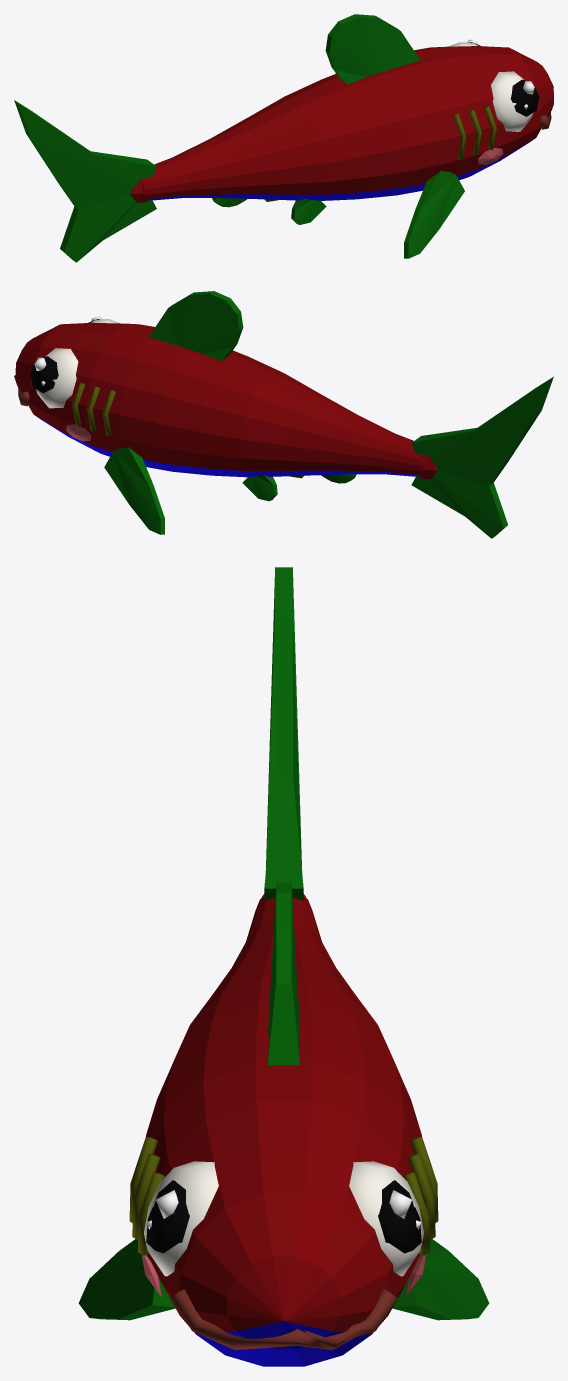
The model's file is fish-shark.glb.
The picture shows the model from 3 angles, top to bottom: view 1: azimuth 30°, elevation 25°; view 2: azimuth 150°, elevation 25°; view 3: azimuth 270°, elevation 25°; orthographic projection. The views are drawn at different scales.
Visible parts, largest first — view 1: body, tail; view 2: body, tail; view 3: body, tail.
Boxes of the visible parts, <box> form: body: <box>142,14,553,258</box>; tail: <box>14,100,156,262</box>; body: <box>14,291,425,534</box>; tail: <box>411,376,553,538</box>; body: <box>78,883,489,1366</box>; tail: <box>261,567,306,901</box>.
Bounding box in the file's own units: 1.07 × 0.3939 × 0.3545.
